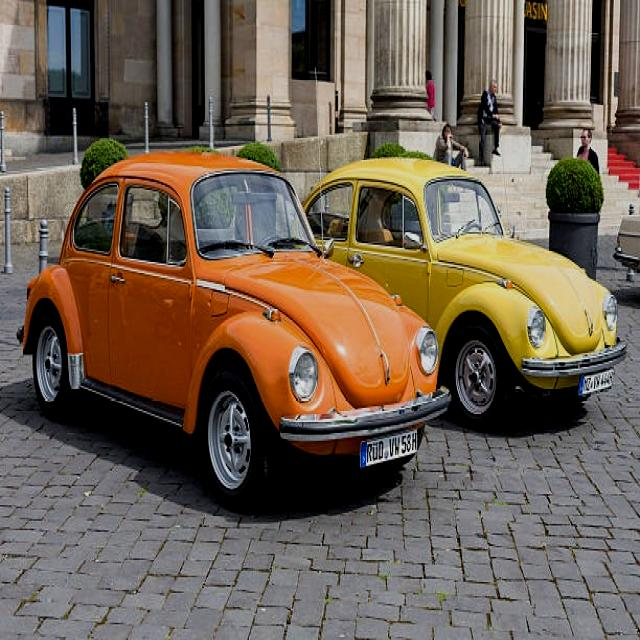car: (22, 154, 444, 495)
